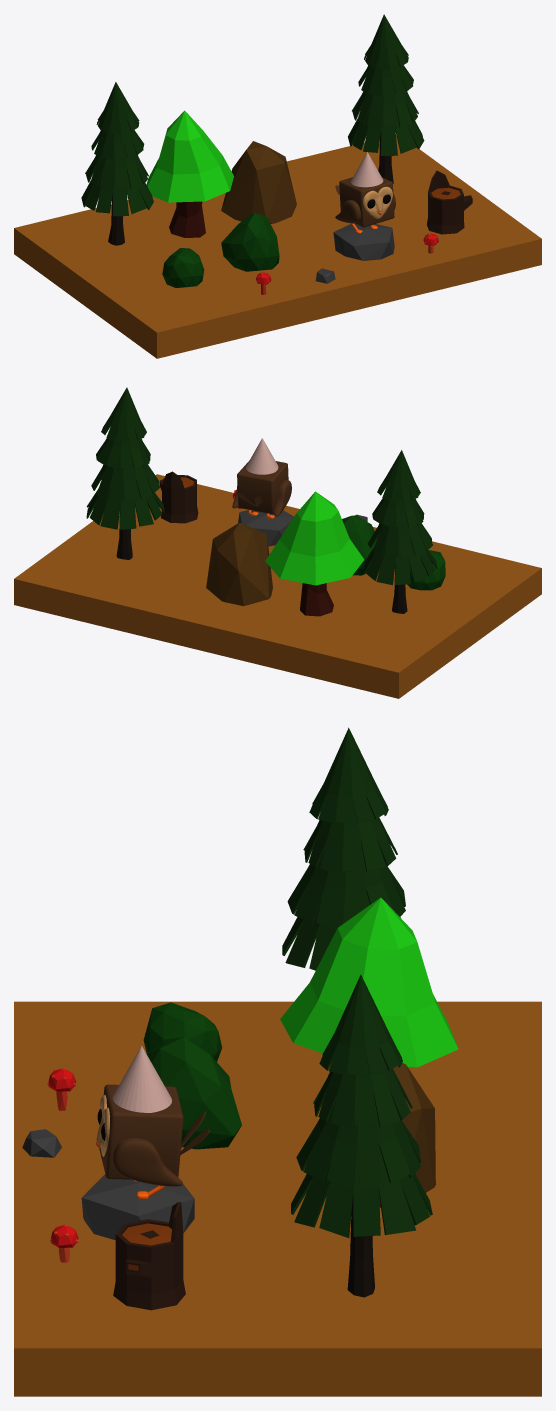
File: Blender_2.obj
3 views of the same model, one above another, from view 1: azimuth 30°, elevation 25°; view 2: azimuth 150°, elevation 25°; view 3: azimuth 270°, elevation 25° (orthographic). The views are drawn at different scales.
Visible parts, largest first — view 1: BG_Cube_Cube.004, Tree2.001_Cylinder.001, Tree2_Cylinder.024, Mushroom2_Cylinder.054, Rock4_Cylinder.019, Bush1_Icosphere.083, Stump1_Cylinder.004, Rock1_Icosphere.000, Bush2_Icosphere.084, Body_Cube, Cone, Face_Cube.002 (+1 smaller); view 2: BG_Cube_Cube.004, Tree2.001_Cylinder.001, Mushroom2_Cylinder.054, Tree2_Cylinder.024, Rock4_Cylinder.019, Body_Cube, Stump1_Cylinder.004, Rock1_Icosphere.000, Bush1_Icosphere.083, Bush2_Icosphere.084, Cone, Wings_Cube.001; view 3: BG_Cube_Cube.004, Tree2.001_Cylinder.001, Tree2_Cylinder.024, Mushroom2_Cylinder.054, Stump1_Cylinder.004, Bush1_Icosphere.083, Rock1_Icosphere.000, Body_Cube, Bush2_Icosphere.084, Rock4_Cylinder.019, Cone, Wings_Cube.001 (+1 smaller).
Part boxes in pixels (x1,y1,x2,y2): BG_Cube_Cube.004: [14, 135, 541, 358]; Tree2.001_Cylinder.001: [348, 14, 424, 183]; Tree2_Cylinder.024: [81, 82, 153, 245]; Mushroom2_Cylinder.054: [146, 110, 233, 237]; Rock4_Cylinder.019: [221, 141, 296, 223]; Bush1_Icosphere.083: [221, 213, 279, 271]; Stump1_Cylinder.004: [427, 170, 472, 234]; Rock1_Icosphere.000: [333, 223, 394, 260]; Bush2_Icosphere.084: [162, 248, 204, 287]; Body_Cube: [339, 177, 394, 227]; Cone: [351, 152, 383, 187]; Face_Cube.002: [363, 186, 392, 218]; BG_Cube_Cube.004: [14, 474, 541, 698]; Tree2.001_Cylinder.001: [86, 387, 164, 559]; Mushroom2_Cylinder.054: [265, 491, 364, 616]; Tree2_Cylinder.024: [363, 450, 437, 613]; Rock4_Cylinder.019: [206, 522, 272, 606]; Body_Cube: [237, 460, 288, 514]; Stump1_Cylinder.004: [159, 471, 198, 523]; Rock1_Icosphere.000: [238, 510, 293, 546]; Bush1_Icosphere.083: [342, 515, 377, 575]; Bush2_Icosphere.084: [407, 550, 445, 590]; Cone: [246, 438, 278, 474]; Wings_Cube.001: [232, 479, 291, 516]; BG_Cube_Cube.004: [14, 1001, 541, 1396]; Tree2.001_Cylinder.001: [291, 974, 432, 1297]; Tree2_Cylinder.024: [282, 727, 405, 970]; Mushroom2_Cylinder.054: [280, 897, 458, 1067]; Stump1_Cylinder.004: [113, 1202, 185, 1310]; Bush1_Icosphere.083: [146, 1037, 241, 1149]; Rock1_Icosphere.000: [81, 1174, 194, 1240]; Body_Cube: [99, 1084, 183, 1179]; Bush2_Icosphere.084: [143, 1002, 222, 1061]; Rock4_Cylinder.019: [379, 1063, 435, 1207]; Cone: [112, 1045, 171, 1112]; Wings_Cube.001: [113, 1138, 182, 1186].
Bounding box in the file's own units: 22.45 × 11.08 × 14.45.
